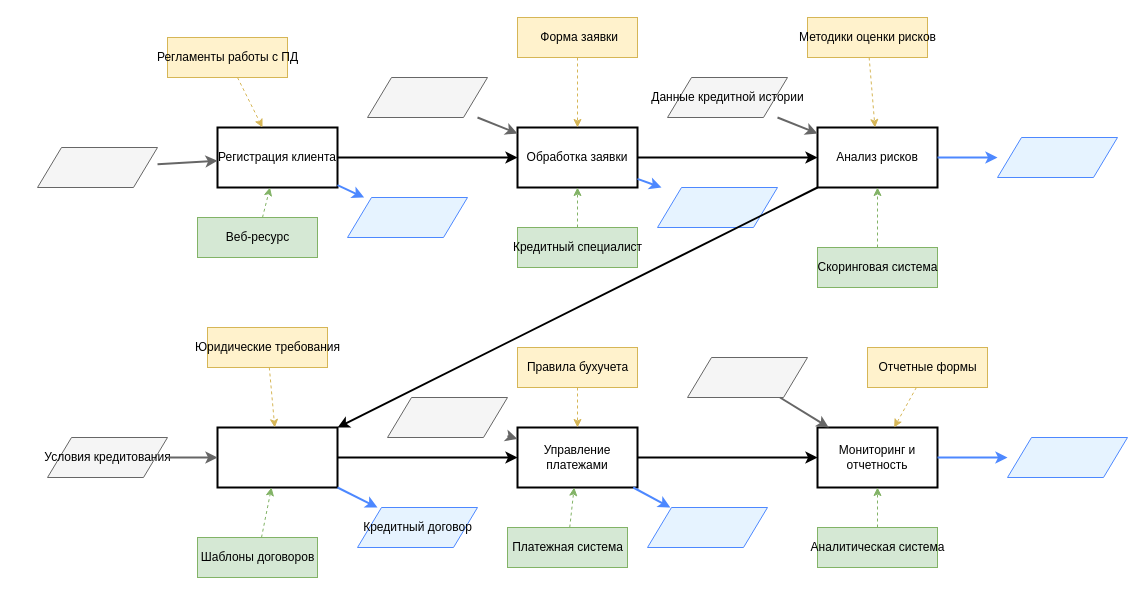
Image size: 1145x595. Some labels were removed from this diagram. The shapes that lost their labels are listed below. From the top down, each one's centre as x and y in pixels, then its label:
the point at 427,97: Параметры кредита
the point at 97,167: Заявка и документы клиента
the point at 1057,157: Оценка риска и решение
the point at 407,217: Верифицированные данные
the point at 717,207: Подготовленная заявка
the point at 747,377: Данные о платежах
the point at 447,417: Данные договора
the point at 277,457: Формирование договора
the point at 1067,457: Финансовые отчеты
the point at 707,527: График платежей
